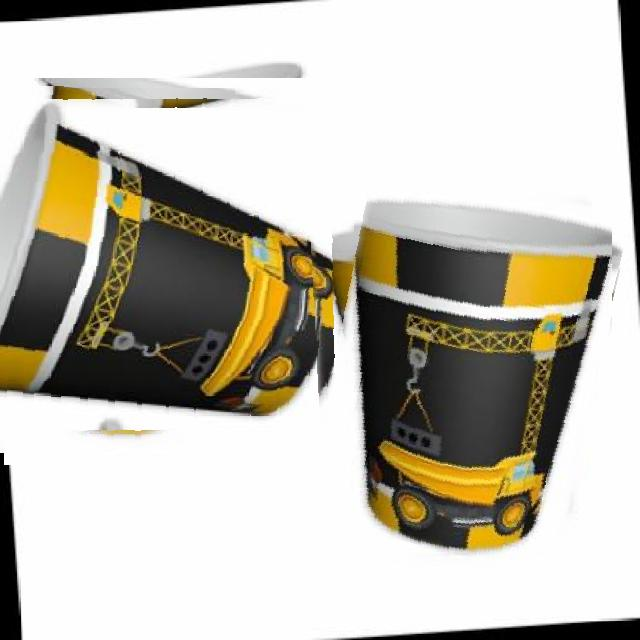non-biodegradable: (0, 88, 352, 453), (307, 172, 612, 572)
